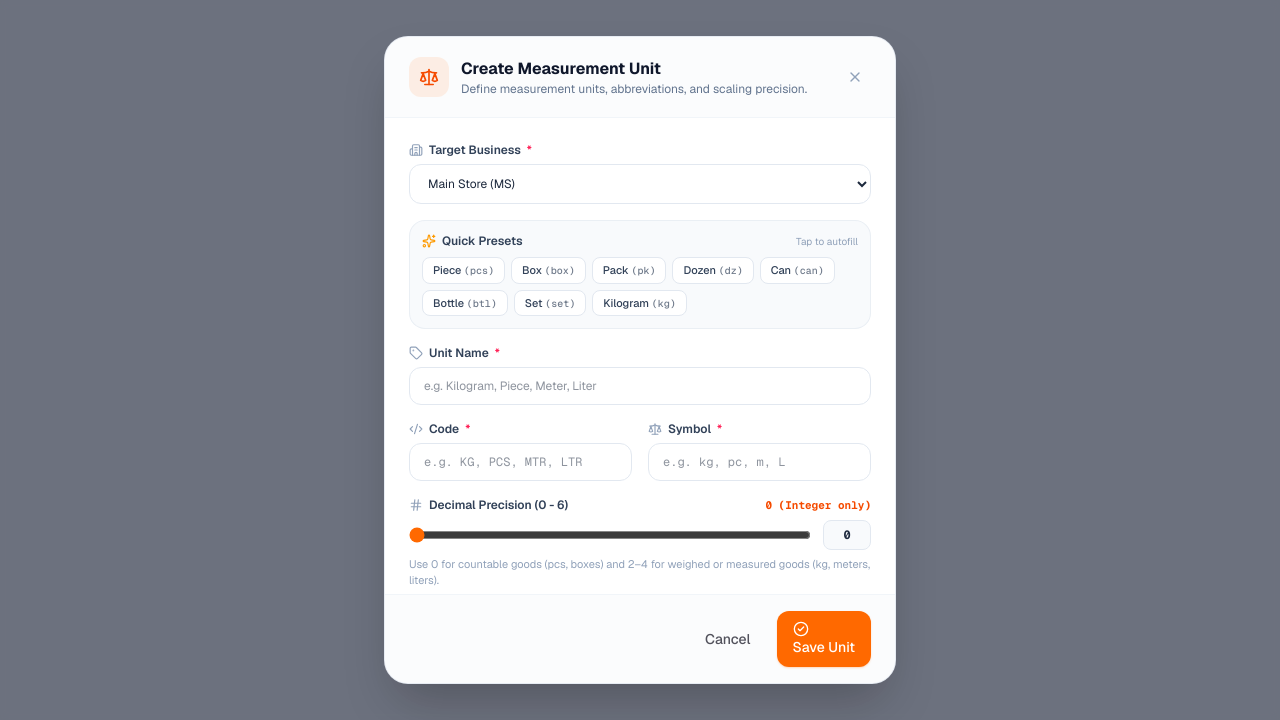
Test: Unit Presets and Quick Seed UI › CreateUnitModal Quick Presets › autofills unit fields when a quick preset badge is clicked
Expected: the text "Quick Presets" is shown, [422,233,523,249]
Note: Find and click the "Kilogram" preset button
Step 1. Click the button "Kilogram (kg)" → (640, 303), box [592,290,687,316]
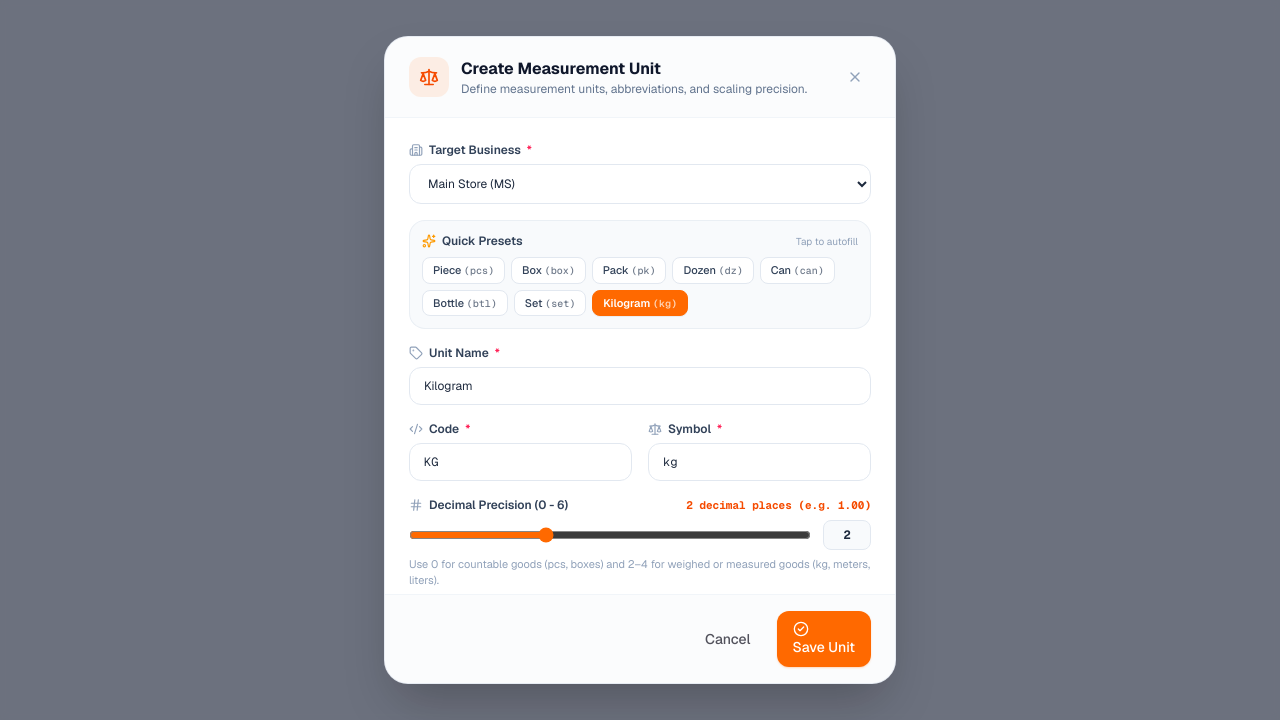
Now the field with placeholder "e.g. Kilogram, Piece, Meter, Liter" below "Unit Name" holds "Kilogram", box [409,367,871,405]
Now the field with placeholder "e.g. KG, PCS, MTR, LTR" below "Code" holds "KG", box [409,443,632,481]
Now the field with placeholder "e.g. kg, pc, m, L" below "Symbol" holds "kg", box [648,443,871,481]
